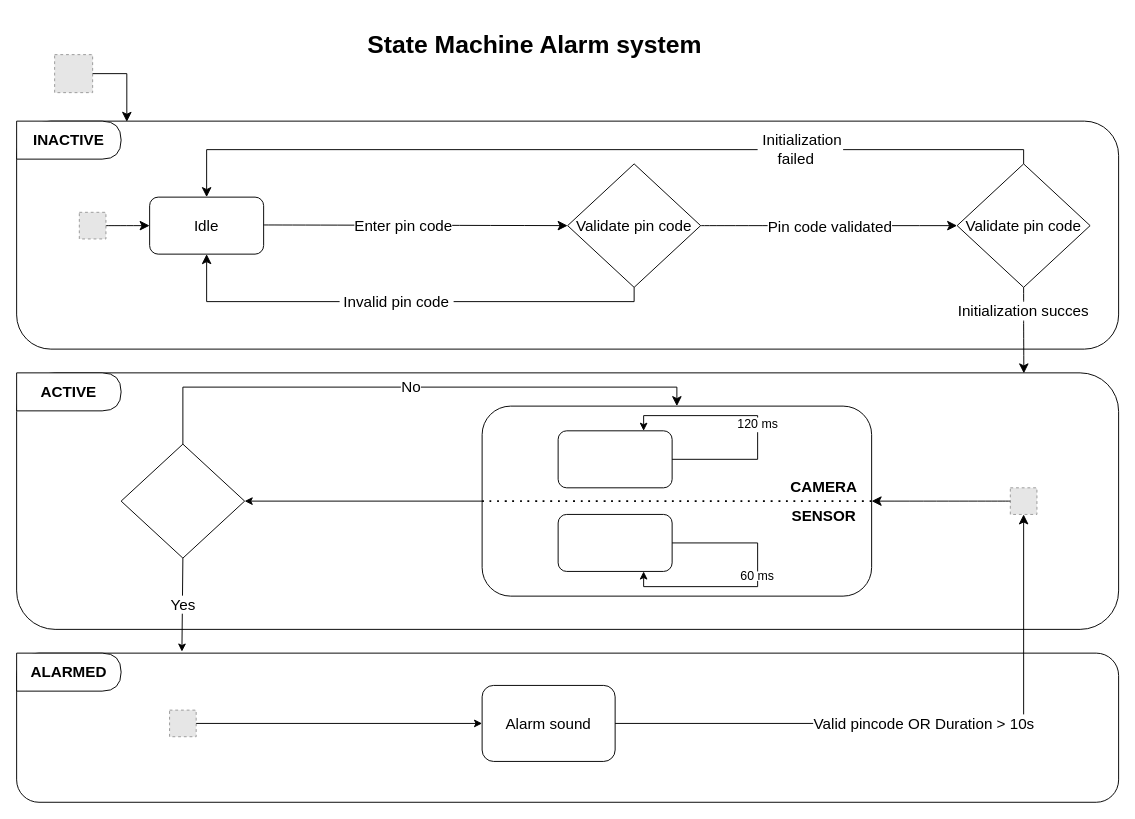
The diagram is 1135 pixels wide and 819 high, and some of its shapes have lost their labels. Grey dashed boxes stand in for pictures. Each missing label, with the box of its shape:
Generate camera data: (557, 430, 672, 488)
Generate sensor data: (557, 513, 672, 571)
Intrusion check: (120, 443, 245, 558)
